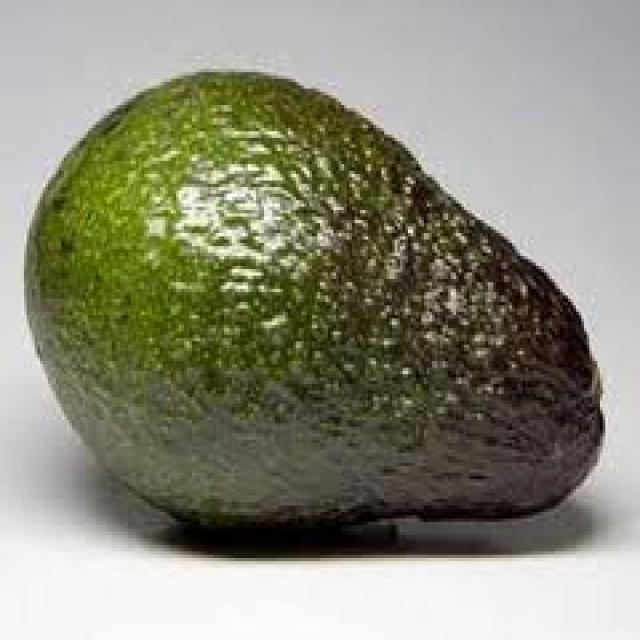avocado: (11, 59, 610, 532)
